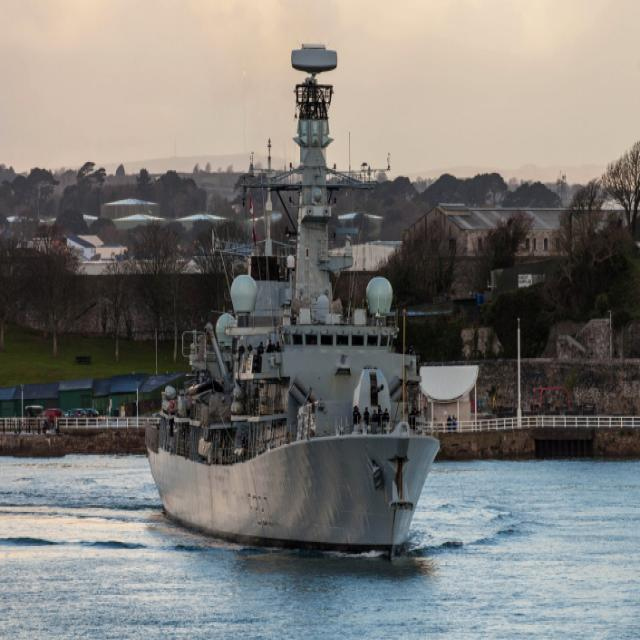Fragata: (142, 1, 448, 570)
